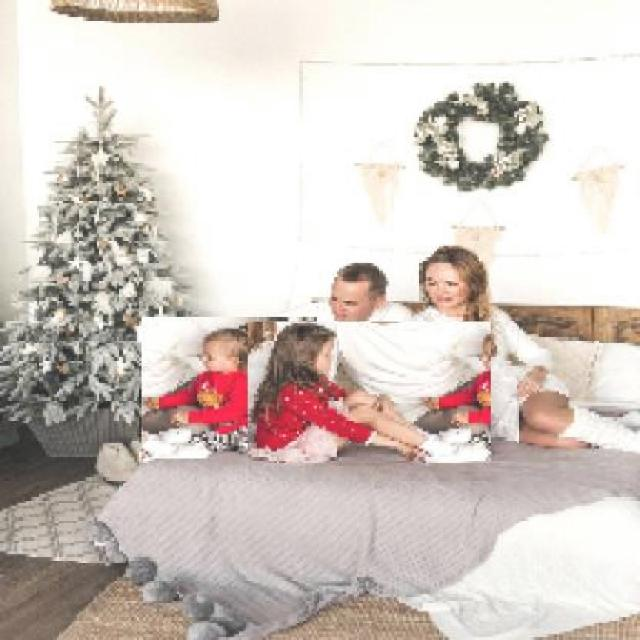child: (246, 322, 491, 464), (140, 317, 317, 460)
